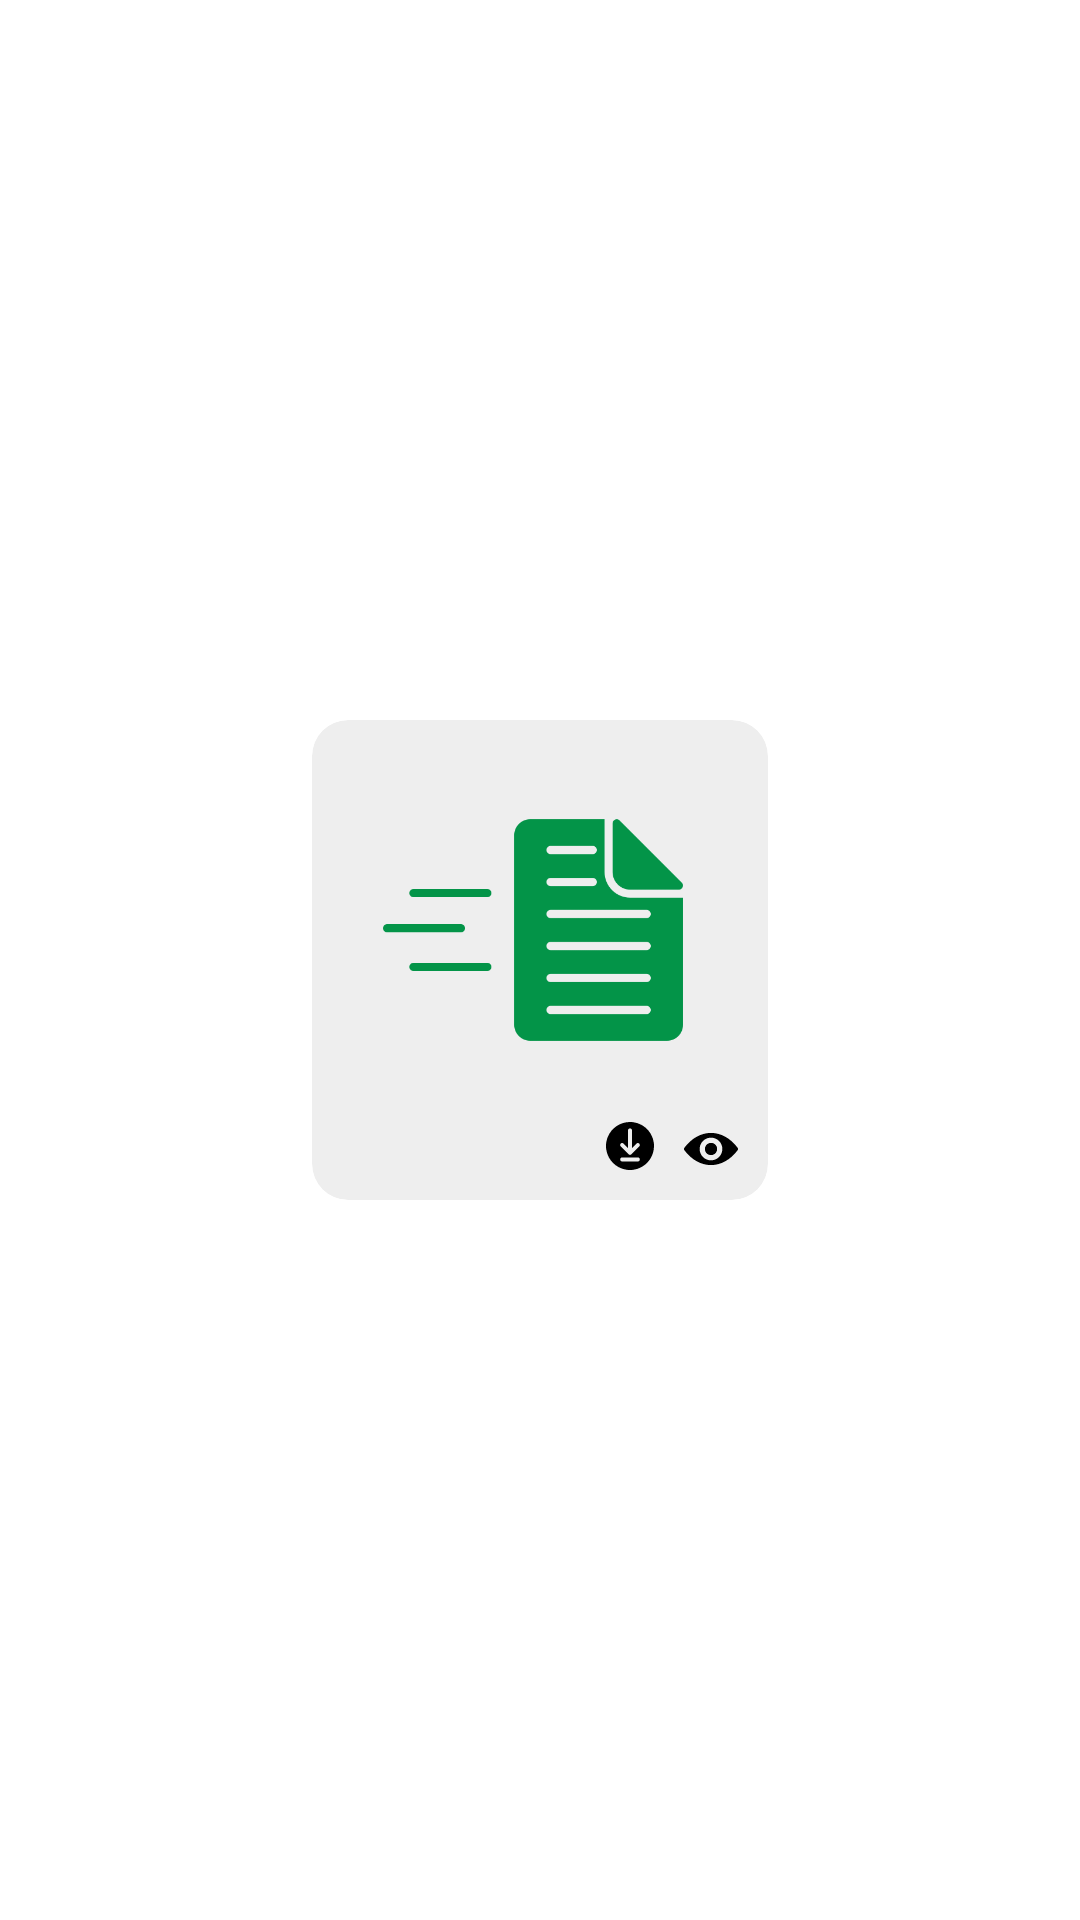

Named icons in this screenshot (1080×1920) and their bounding boxes, bbox=[x1, y1, x2, y2]:
download: bbox=[606, 1122, 654, 1170]
show: bbox=[684, 1133, 738, 1165]
